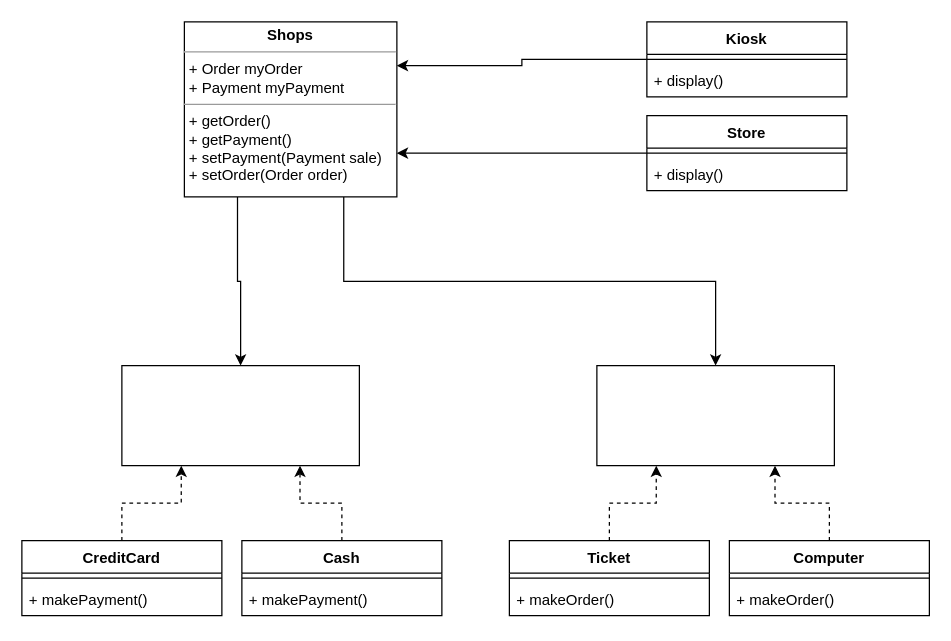
Image size: 951x641. Some labels were removed from this diagram. Here are the shapes that lost their labels. From the top down, the centre of each, then its label:
the point at 240,415: <<Interface>> Payment + makePayment()
the point at 715,415: <<Interface>> Order + makeOrder()
